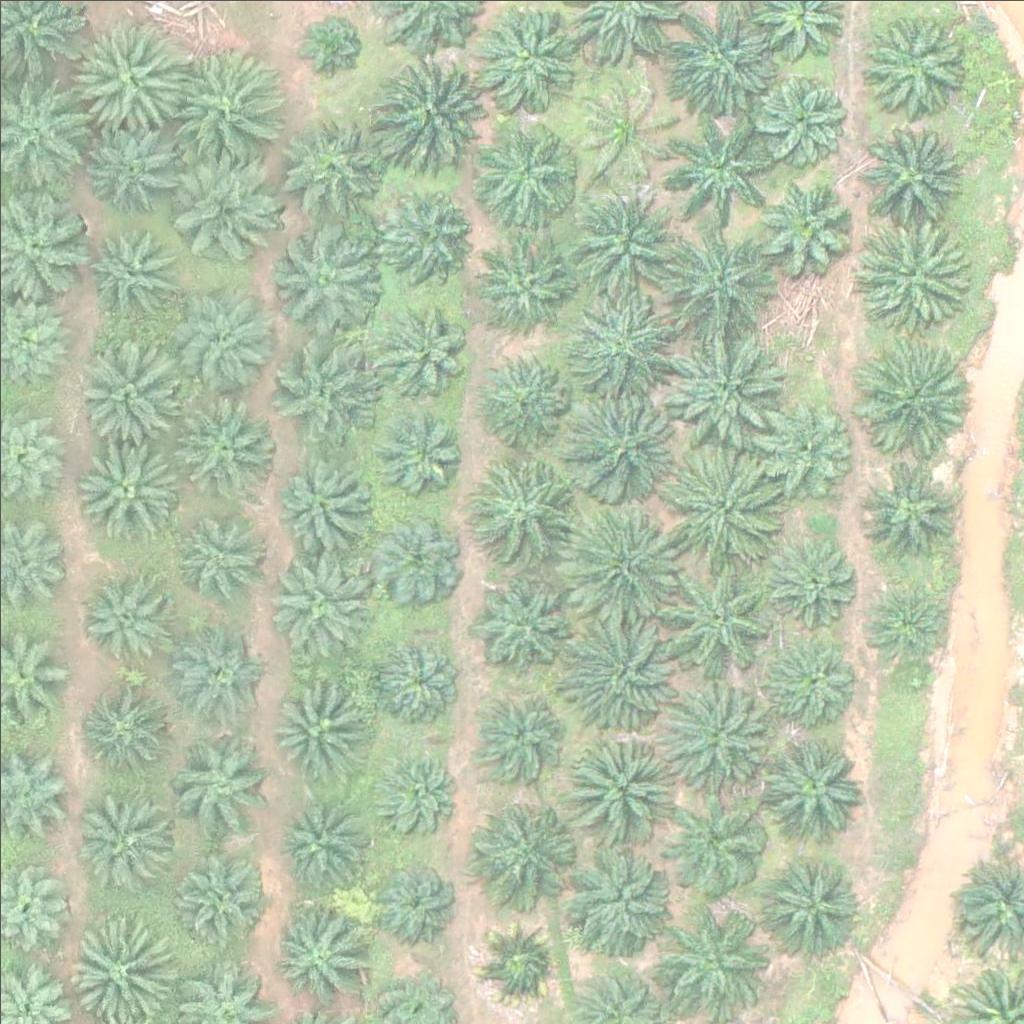Kelapa_Sawit: (854, 344, 967, 458), (75, 21, 188, 134), (170, 280, 283, 393), (170, 161, 283, 274), (178, 47, 291, 160), (273, 220, 386, 333), (374, 51, 487, 164), (660, 2, 773, 115), (670, 328, 783, 441), (858, 221, 971, 334), (561, 507, 674, 620), (561, 618, 674, 731), (562, 736, 675, 849), (561, 851, 674, 964), (664, 676, 777, 789), (662, 447, 775, 560), (170, 386, 282, 500), (566, 289, 678, 403), (565, 176, 677, 290), (852, 111, 964, 225), (261, 545, 373, 659), (558, 392, 670, 506), (67, 334, 179, 447), (267, 337, 379, 450), (664, 115, 776, 228), (660, 230, 772, 343), (72, 433, 184, 546), (466, 792, 578, 905), (464, 442, 576, 555), (658, 562, 770, 675), (81, 114, 181, 215), (77, 227, 177, 328), (277, 113, 377, 214), (380, 181, 480, 282), (571, 85, 671, 186), (754, 67, 854, 168), (861, 15, 961, 116), (79, 567, 179, 668), (172, 842, 272, 943), (167, 498, 267, 599), (267, 906, 367, 1007), (367, 506, 467, 607), (475, 566, 575, 667), (673, 906, 773, 1007), (667, 794, 767, 895), (761, 640, 861, 741), (761, 732, 861, 833), (755, 858, 855, 959), (859, 460, 959, 561), (474, 224, 574, 324), (481, 123, 581, 223), (757, 175, 857, 275), (78, 790, 178, 890), (169, 733, 269, 833), (169, 609, 269, 709), (264, 673, 364, 773), (271, 452, 371, 552), (366, 628, 466, 728), (754, 398, 854, 498), (758, 539, 858, 639), (381, 307, 469, 395), (484, 353, 572, 441), (85, 686, 173, 774), (277, 802, 365, 890), (378, 410, 466, 498), (371, 851, 459, 939), (371, 746, 459, 834), (477, 916, 564, 1004), (480, 695, 567, 783), (865, 585, 952, 673), (292, 10, 367, 85)
